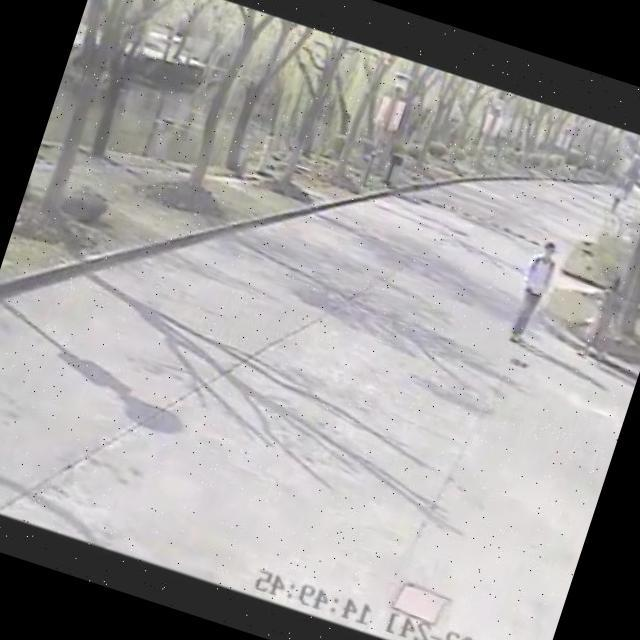person: (498, 232, 570, 354)
